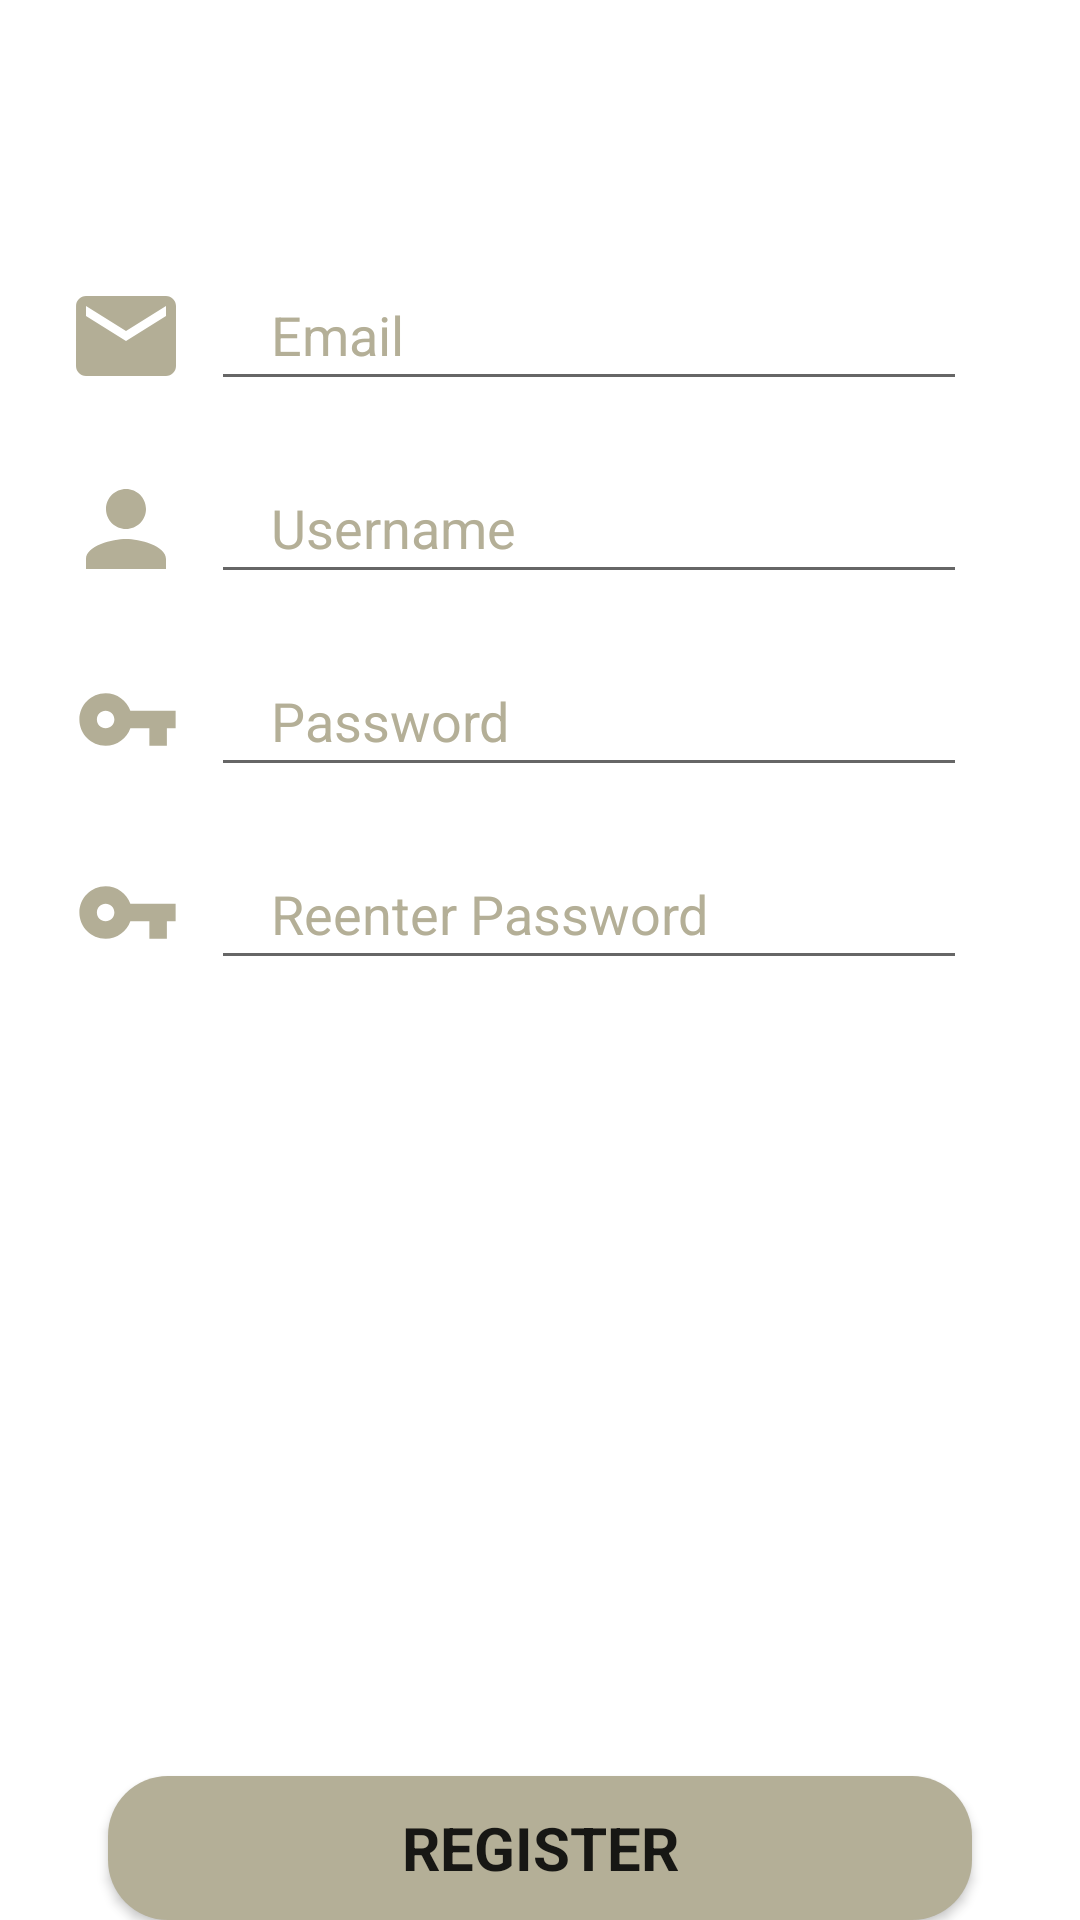

Screen size 1080 × 1920. Icon name, then its center in pixels as (x=x, y=y):
person: (x=126, y=529)
vpn key: (x=127, y=719), (x=127, y=912)
